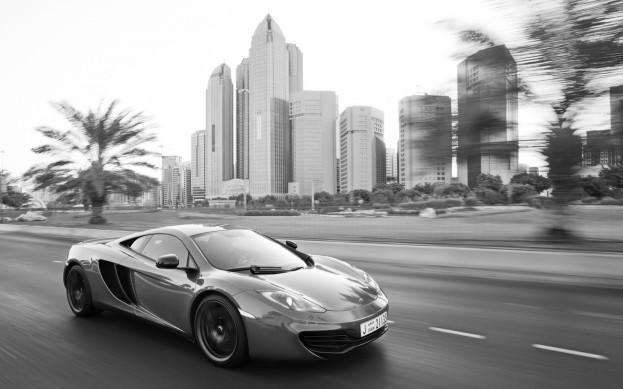car: (63, 222, 391, 373)
